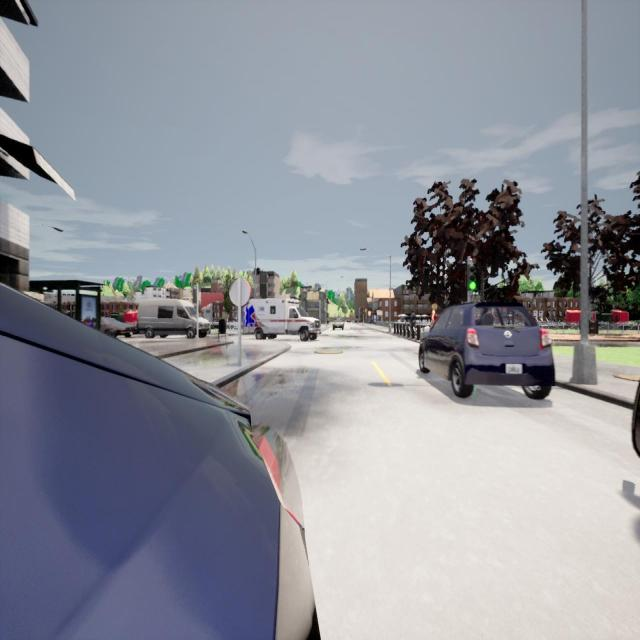Pedestrian: (430, 303, 439, 331), (410, 308, 416, 339)
Traffic_Signs: (229, 278, 251, 306)
Vehicle: (0, 286, 319, 640), (418, 302, 554, 399), (244, 298, 322, 341), (138, 298, 211, 338), (101, 316, 135, 338), (333, 317, 344, 331)
traffic_light: (467, 265, 477, 290)
